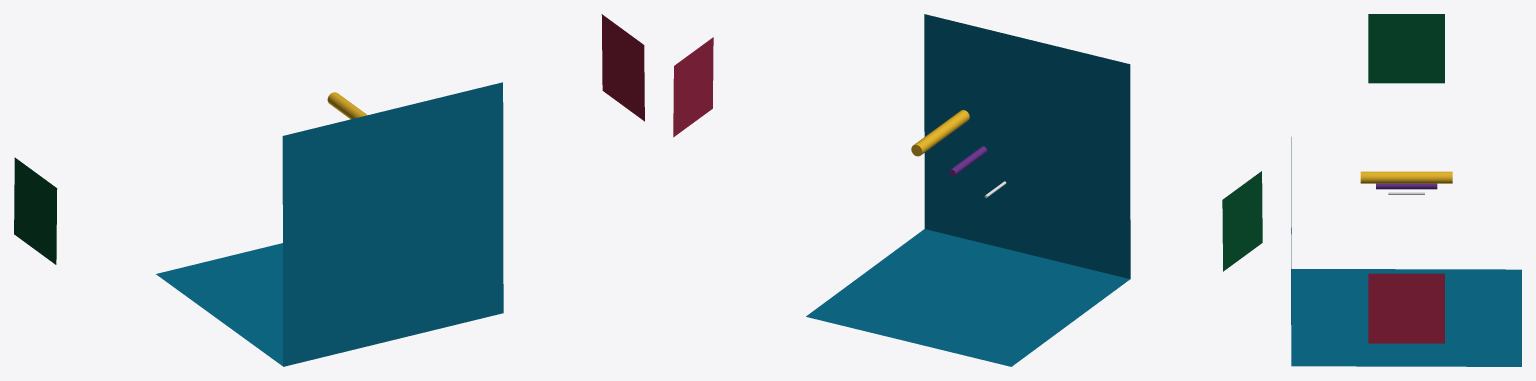
File: cytanb-colored-chalk-and-panels.fbx
The picture shows the model from 3 angles, left to right: view 1: azimuth 30°, elevation 25°; view 2: azimuth 150°, elevation 25°; view 3: azimuth 270°, elevation 25°; orthographic projection. The views are drawn at different scales.
Parts seen in each view (by area): view 1: shared-variable#panel, ground-panel, unimsg-receiver#panel, anymsg-receiver#panel, large-chalk#cytanb-color-picker; view 2: shared-variable#panel, ground-panel, unimsg-receiver#panel, anymsg-receiver#panel, large-chalk#cytanb-color-picker; view 3: ground-panel, anymsg-receiver#panel, unimsg-receiver#panel, large-chalk#cytanb-color-picker, middle-chalk#cytanb-color-picker.
Part boxes in pixels (bbox=[...]): shared-variable#panel: bbox=[282, 82, 503, 366]; ground-panel: bbox=[156, 243, 282, 365]; unimsg-receiver#panel: bbox=[14, 157, 57, 264]; anymsg-receiver#panel: bbox=[601, 14, 644, 121]; large-chalk#cytanb-color-picker: bbox=[327, 92, 367, 119]; shared-variable#panel: bbox=[924, 14, 1130, 279]; ground-panel: bbox=[806, 229, 1129, 366]; unimsg-receiver#panel: bbox=[1222, 171, 1262, 271]; anymsg-receiver#panel: bbox=[673, 37, 713, 137]; large-chalk#cytanb-color-picker: bbox=[911, 110, 969, 156]; ground-panel: bbox=[1291, 269, 1521, 366]; anymsg-receiver#panel: bbox=[1368, 273, 1444, 343]; unimsg-receiver#panel: bbox=[1368, 14, 1444, 83]; large-chalk#cytanb-color-picker: bbox=[1360, 171, 1452, 183]; middle-chalk#cytanb-color-picker: bbox=[1376, 183, 1437, 189].
Bounding box in the file's own units: 4 × 1.5 × 1.5.
